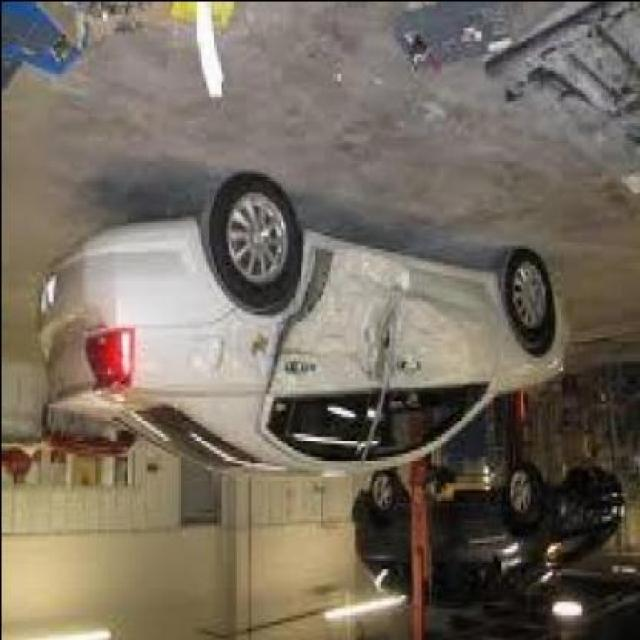damage: (181, 241, 473, 394)
